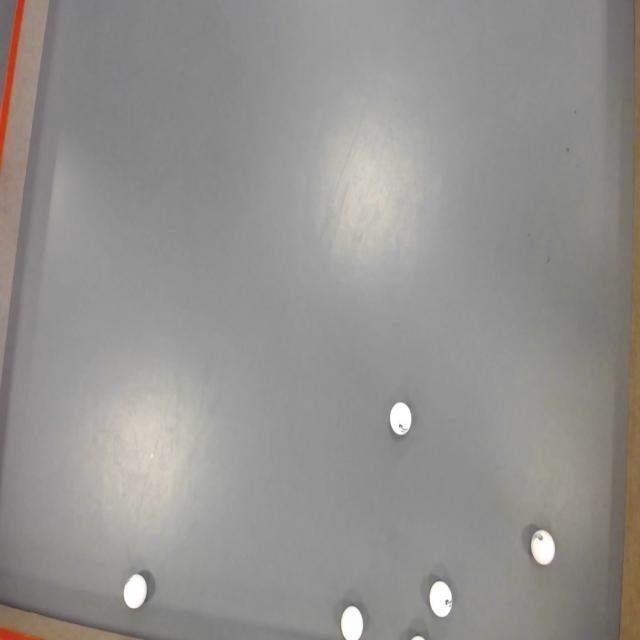white-golf-balls: (527, 524, 557, 570), (120, 570, 152, 612), (428, 578, 456, 620), (387, 398, 415, 438), (340, 604, 364, 640)
